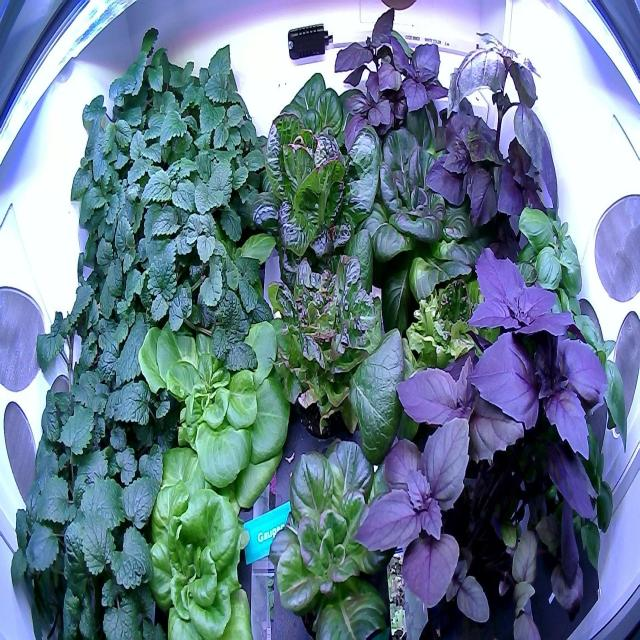Ready: (339, 85, 497, 314), (243, 96, 389, 275), (248, 62, 378, 181)
young: (132, 292, 300, 511), (262, 424, 414, 640), (130, 440, 260, 638)
